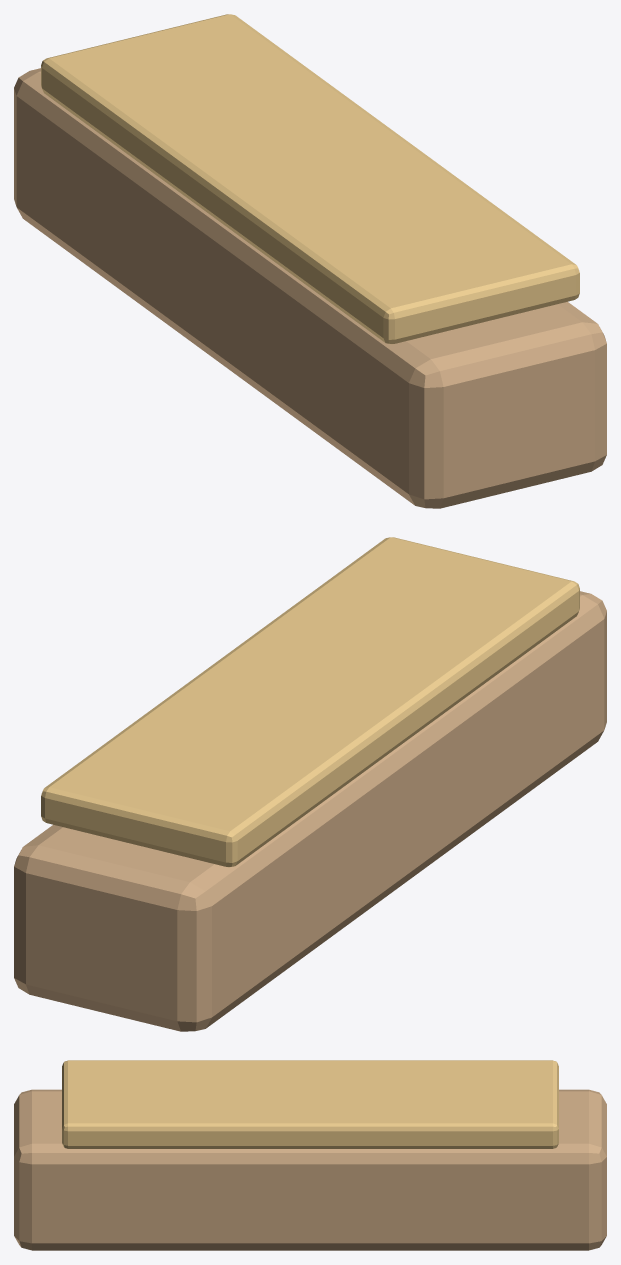
Rendered from ponte-cabeceira.glb.
The picture shows the model from 3 angles, top to bottom: view 1: azimuth 30°, elevation 25°; view 2: azimuth 150°, elevation 25°; view 3: azimuth 270°, elevation 25°; orthographic projection. The views are drawn at different scales.
Visible parts, largest first — view 1: ponte-cabeceira; view 2: ponte-cabeceira; view 3: ponte-cabeceira.
Part boxes in pixels (x1=…): ponte-cabeceira: x1=14, y1=14, x2=606, y2=508; ponte-cabeceira: x1=14, y1=537, x2=606, y2=1031; ponte-cabeceira: x1=14, y1=1060, x2=606, y2=1250.
Size of the model in its own units: 0.4 by 0.36 by 1.48.
